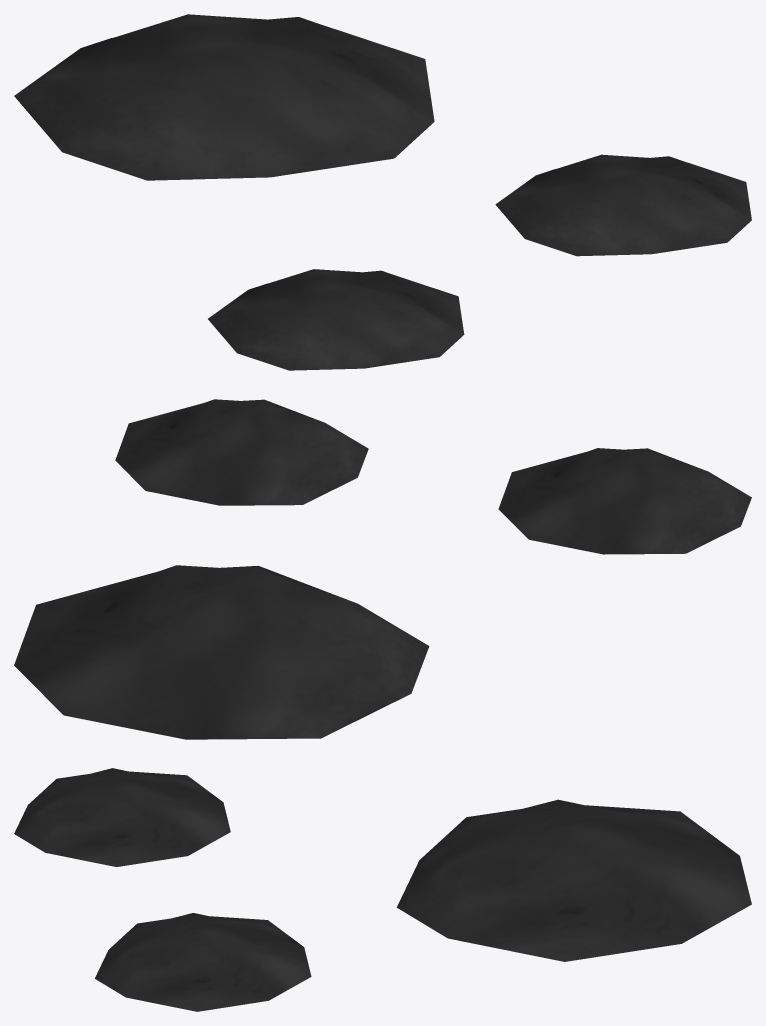
The model's file is kanienie.FBX.
3 views of the same model, one above another, from view 1: azimuth 30°, elevation 25°; view 2: azimuth 150°, elevation 25°; view 3: azimuth 270°, elevation 25° (orthographic). The views are drawn at different scales.
Parts seen in each view (by area): view 1: Cylinder005; view 2: Cylinder005; view 3: Cylinder005.
Part boxes in pixels (<box>): Cylinder005: <box>14,14,751,370</box>; Cylinder005: <box>14,399,751,739</box>; Cylinder005: <box>14,768,751,1011</box>.
Bounding box in the file's own units: 4.21 × 0.4483 × 5.42.
Materials: 1 (1 with a texture image).
